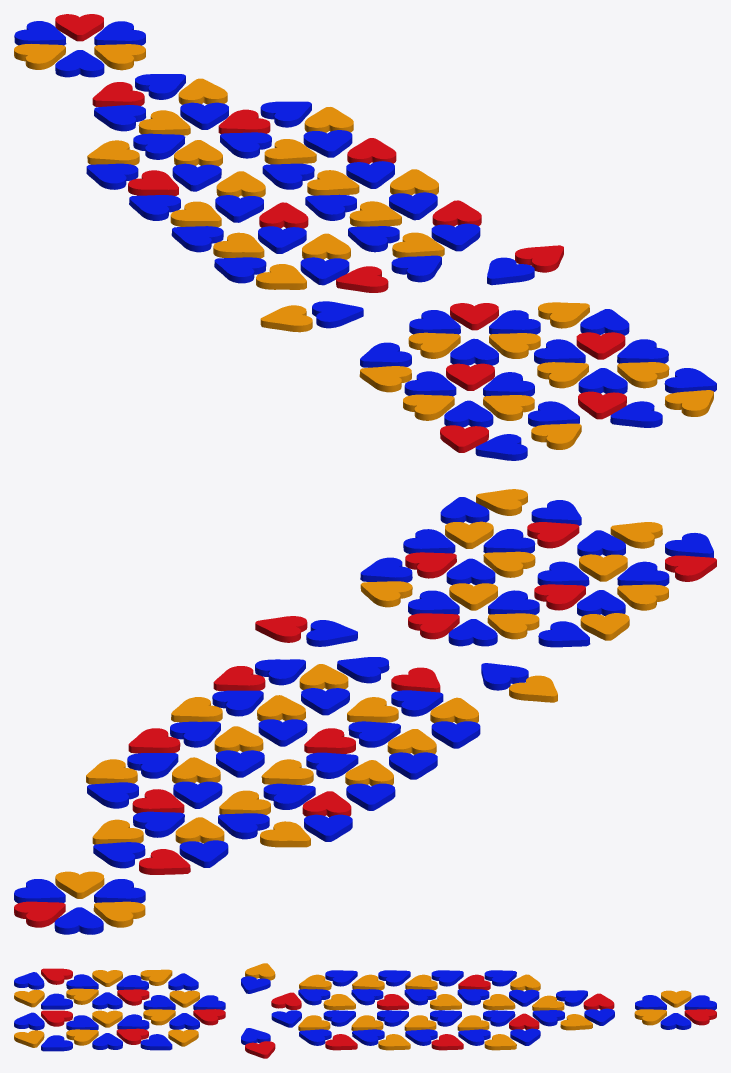
Rendered from typeCombine001.fbx.
The picture shows the model from 3 angles, top to bottom: view 1: azimuth 30°, elevation 25°; view 2: azimuth 150°, elevation 25°; view 3: azimuth 270°, elevation 25°; orthographic projection. The views are drawn at different scales.
Visible parts, largest first — view 1: typeCombine001; view 2: typeCombine001; view 3: typeCombine001.
Part boxes in pixels (left/top/right/bottom): typeCombine001: left=14, top=14, right=716, bottom=460; typeCombine001: left=14, top=489, right=716, bottom=934; typeCombine001: left=14, top=963, right=716, bottom=1058.
Size of the model in its own units: 1376 by 28.01 by 4457.
